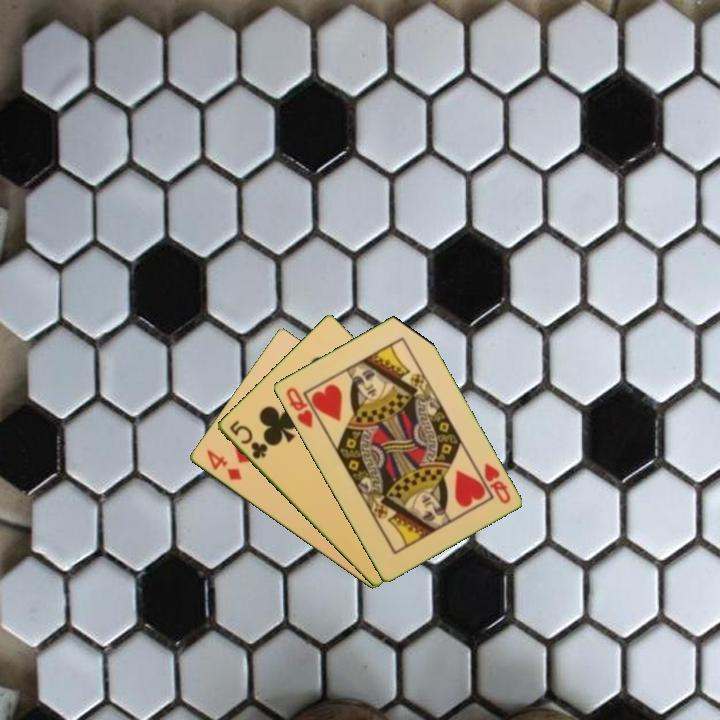4d: (202, 446, 245, 483)
5c: (225, 417, 270, 462)
Qh: (282, 383, 315, 431), (480, 459, 513, 507)
